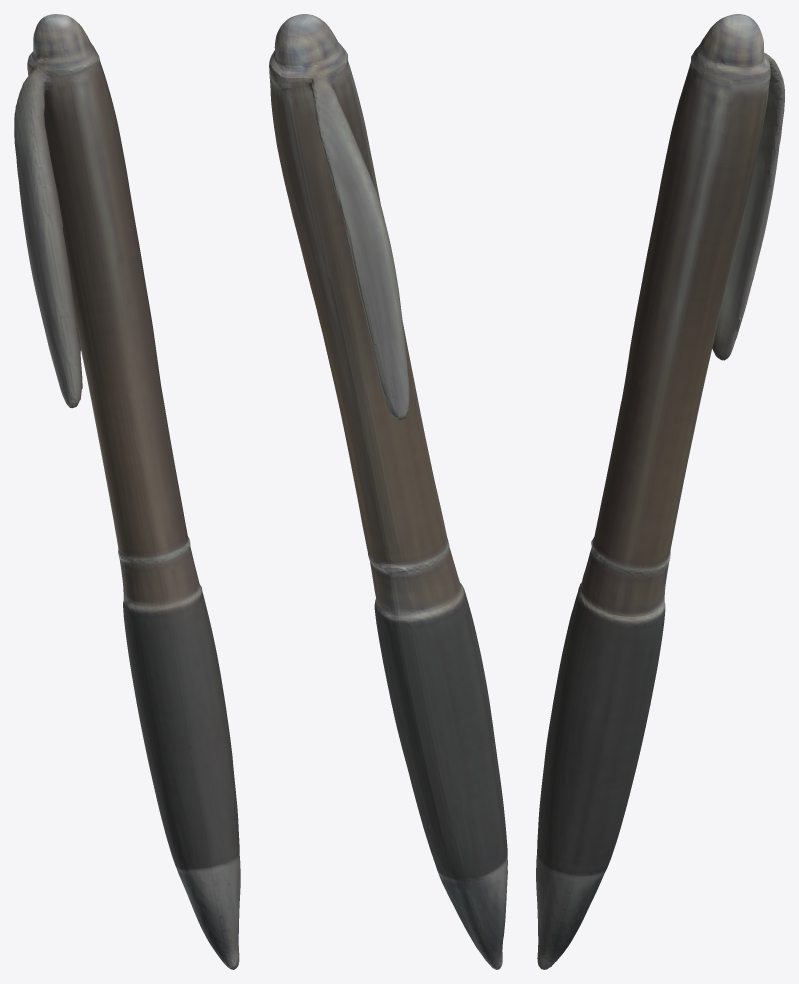
Rendered from frame_0051_source_000051_object.glb.
The picture shows the model from 3 angles, left to right: view 1: azimuth 90°, elevation 25°; view 2: azimuth 150°, elevation 25°; view 3: azimuth 270°, elevation 25°; orthographic projection. The views are drawn at different scales.
Visible parts, largest first — view 1: world; view 2: world; view 3: world.
Boxes of the visible parts, <box> form: world: <box>14,14,240,969</box>; world: <box>269,14,507,969</box>; world: <box>536,14,784,969</box>.
Size of the model in its own units: 0.0299 by 0.1883 by 0.0425.
